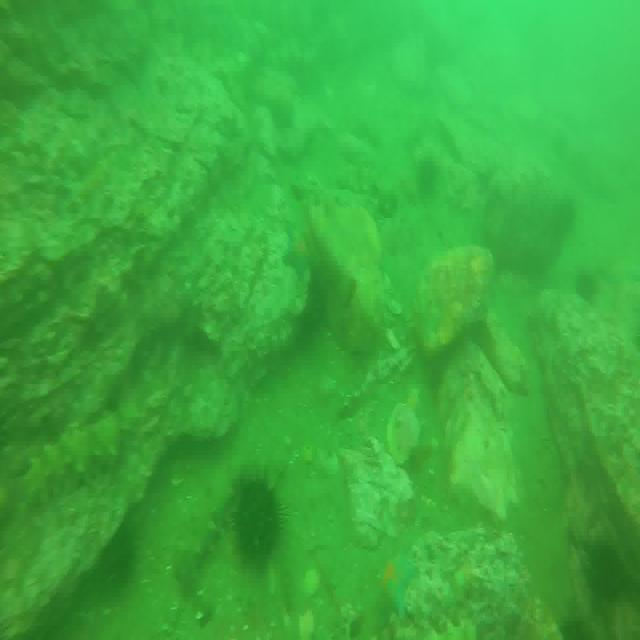echinus: (232, 472, 278, 567), (591, 532, 626, 612), (570, 260, 596, 314)
starfish: (367, 543, 417, 628)
